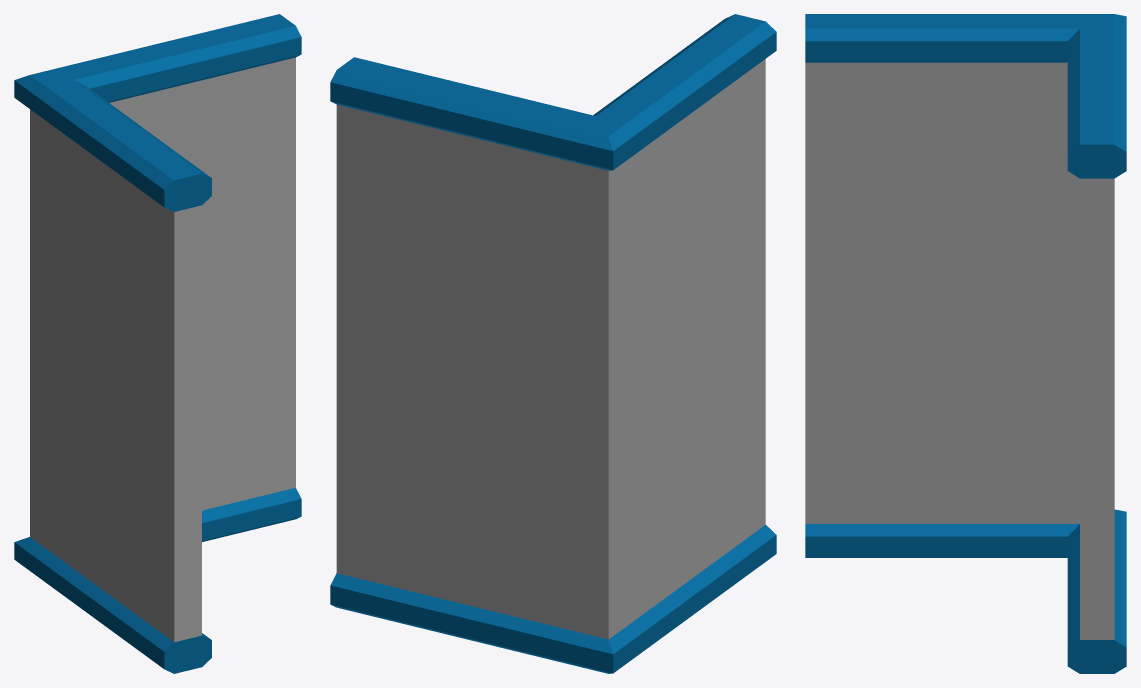
The model's file is BrickWall_Corner.fbx.
3 views of the same model, side by side, from view 1: azimuth 30°, elevation 25°; view 2: azimuth 150°, elevation 25°; view 3: azimuth 270°, elevation 25° (orthographic). The views are drawn at different scales.
Parts seen in each view (by area): view 1: BrickWall_Corner; view 2: BrickWall_Corner; view 3: BrickWall_Corner.
Part boxes in pixels (bbox=[...]): BrickWall_Corner: bbox=[14, 14, 301, 673]; BrickWall_Corner: bbox=[330, 14, 776, 673]; BrickWall_Corner: bbox=[805, 14, 1126, 673].
Bounding box in the file's own units: 220 × 400 × 220.
